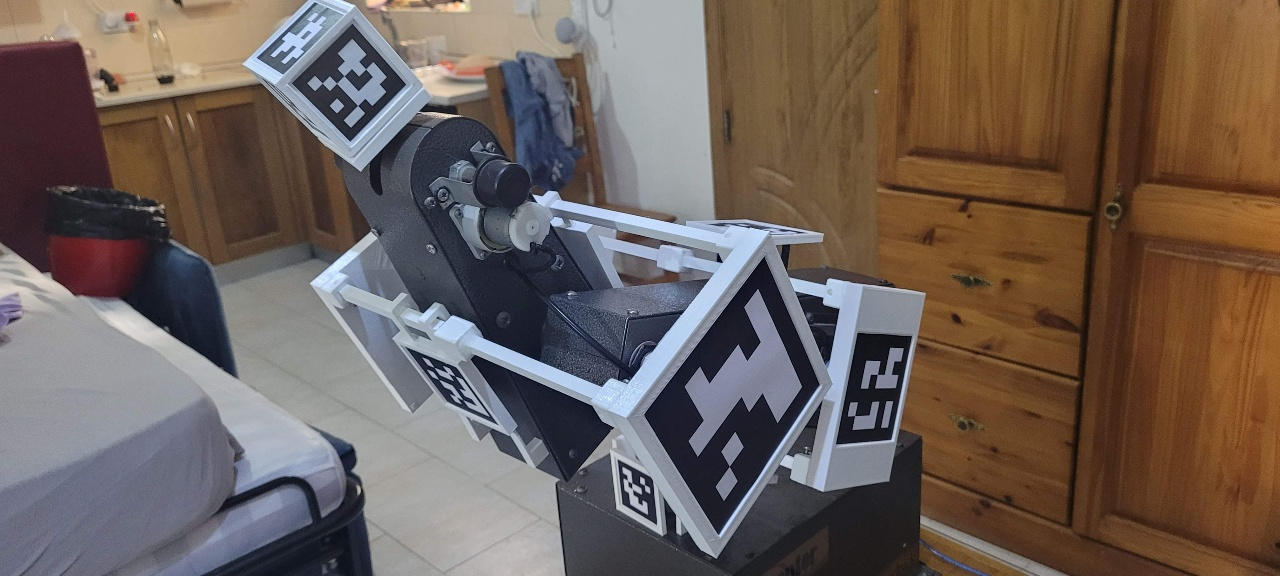Robot: (262, 18, 767, 576)
